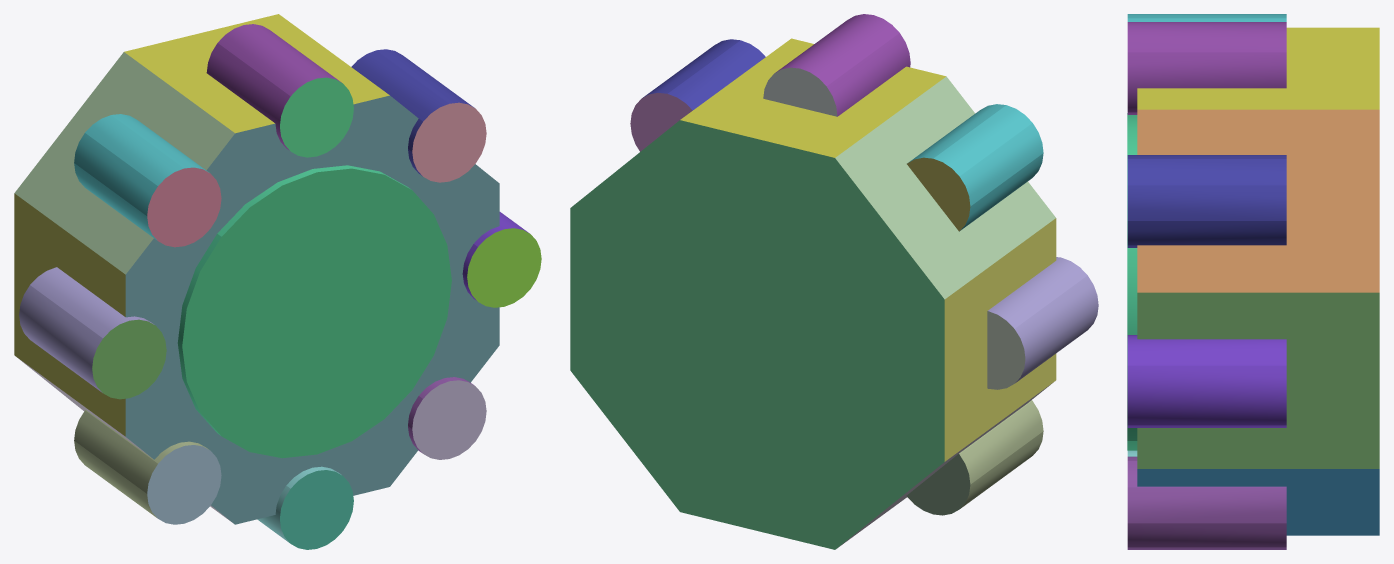
File: module-timeline-01.glb
3 renders of one model, left to right at view 1: azimuth 30°, elevation 25°; view 2: azimuth 150°, elevation 25°; view 3: azimuth 270°, elevation 25°, orthographic. The views are drawn at different scales.
Size of the model in its own units: 1.67 by 1.67 by 0.7435.
